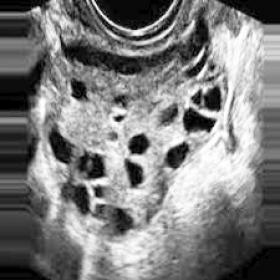PCOS: (182, 110, 210, 136), (87, 146, 105, 180), (53, 134, 73, 164), (203, 87, 227, 112), (112, 208, 128, 238), (74, 184, 90, 209), (126, 156, 141, 182), (130, 139, 151, 156), (80, 154, 94, 177), (167, 150, 186, 165), (163, 105, 177, 125), (70, 79, 86, 96), (99, 199, 110, 218), (94, 184, 105, 200), (192, 88, 203, 104), (66, 184, 78, 197), (116, 99, 128, 110), (113, 115, 132, 121)
